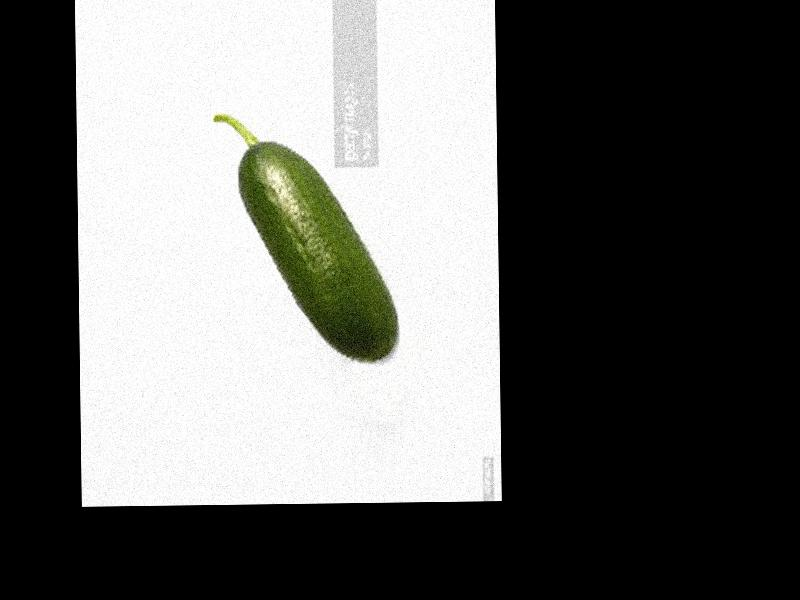Cucumber: (215, 107, 400, 361)
